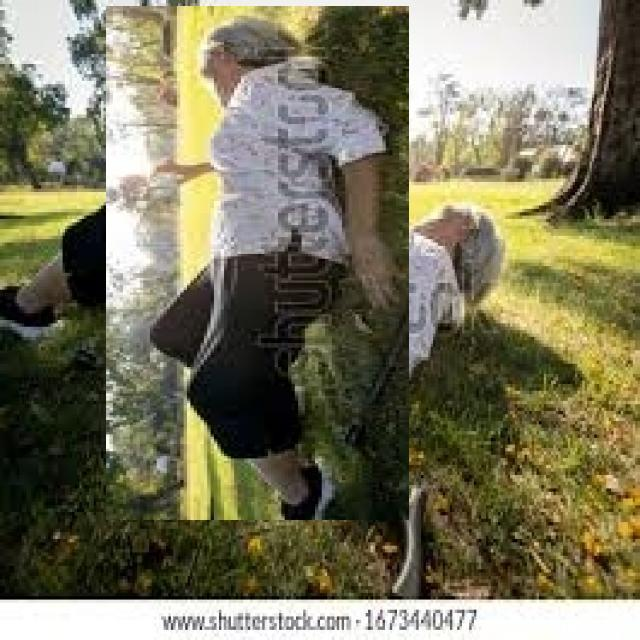Fall: (105, 6, 386, 522)
